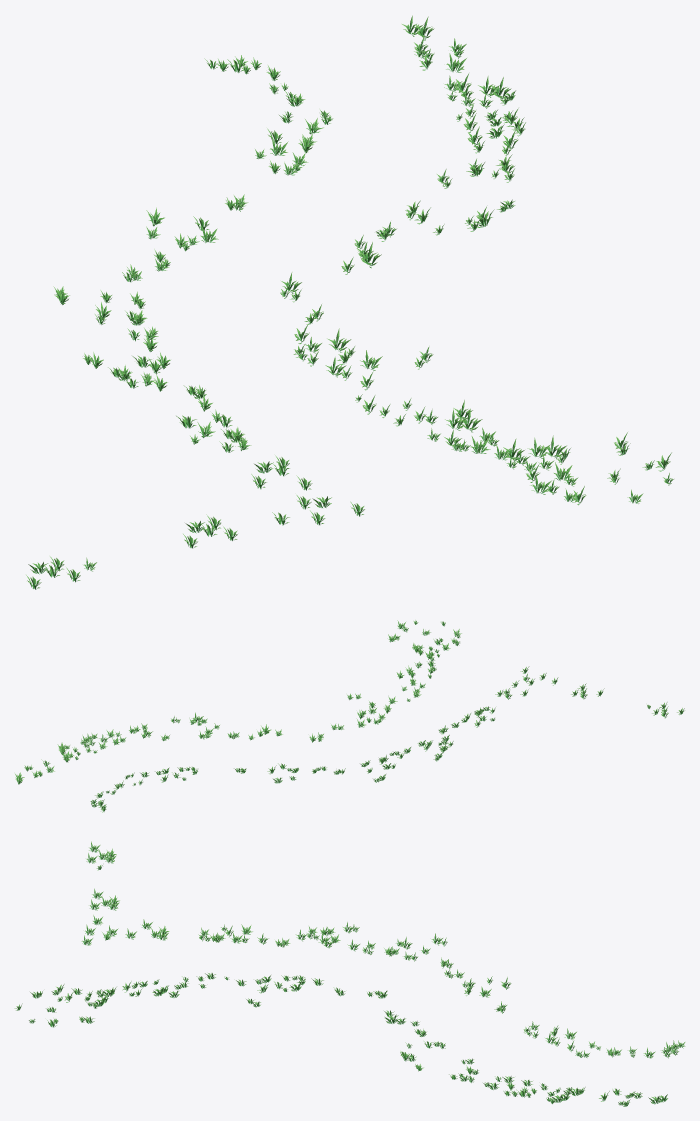
File: Area_07_6.fbx
The picture shows the model from 3 angles, top to bottom: view 1: azimuth 30°, elevation 25°; view 2: azimuth 150°, elevation 25°; view 3: azimuth 270°, elevation 25°; orthographic projection. The views are drawn at different scales.
Visible parts, largest first — view 1: Area_07_6; view 2: Area_07_6; view 3: Area_07_6.
Part boxes in pixels (x1,y1,x2,y2): Area_07_6: [26, 15, 673, 589]; Area_07_6: [15, 620, 684, 812]; Area_07_6: [14, 841, 685, 1106].
Bounding box in the file's own units: 5440 × 124 × 5980.
